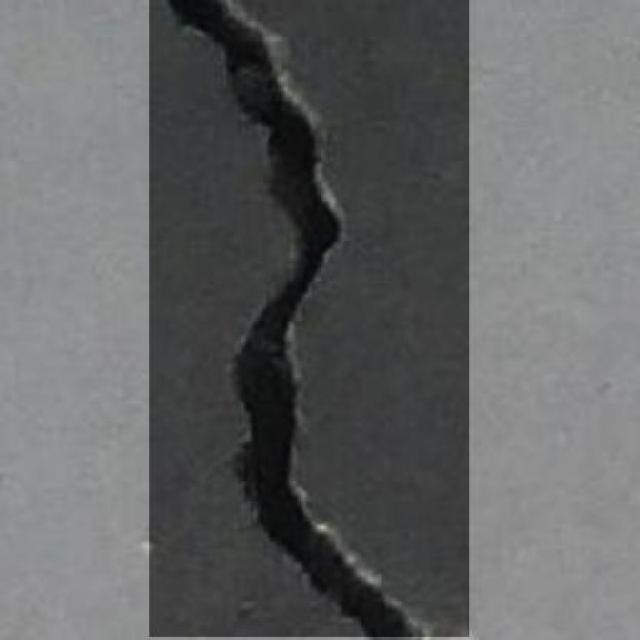Crack: (135, 0, 477, 640)
